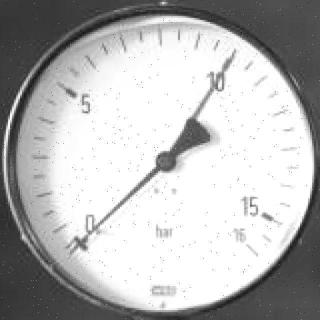gauge: (0, 0, 320, 320), (230, 224, 267, 268), (68, 225, 100, 257), (154, 150, 177, 173), (65, 241, 82, 259), (224, 53, 241, 65)
